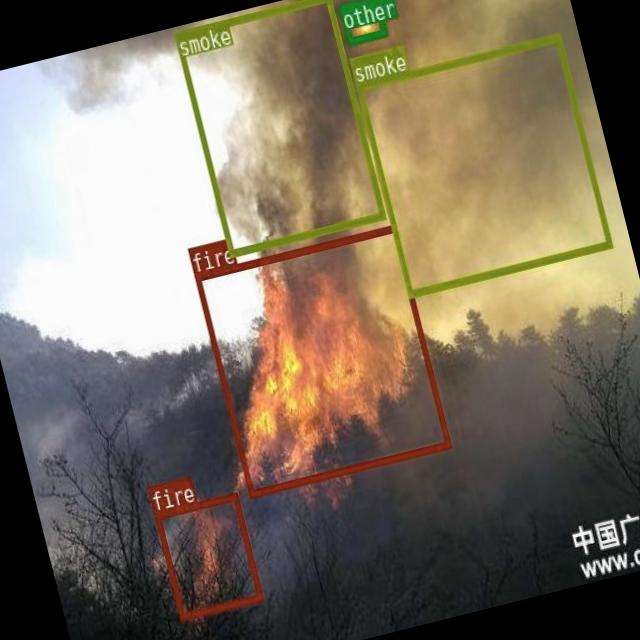fire: (193, 222, 450, 496), (152, 492, 262, 620)
smoke: (354, 32, 611, 296), (173, 0, 384, 256)
